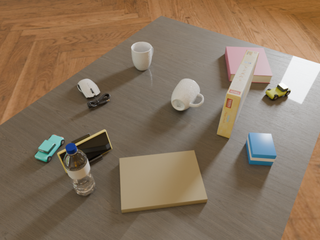book: (120, 150, 207, 213), (225, 47, 273, 83)
bottle: (63, 143, 95, 196)
box: (217, 50, 259, 138), (246, 133, 276, 166)
cup: (171, 79, 204, 110), (131, 42, 153, 71)
mouse: (77, 79, 100, 98)
phone: (57, 130, 112, 173)
toy_car: (35, 135, 64, 162), (266, 83, 291, 100)
